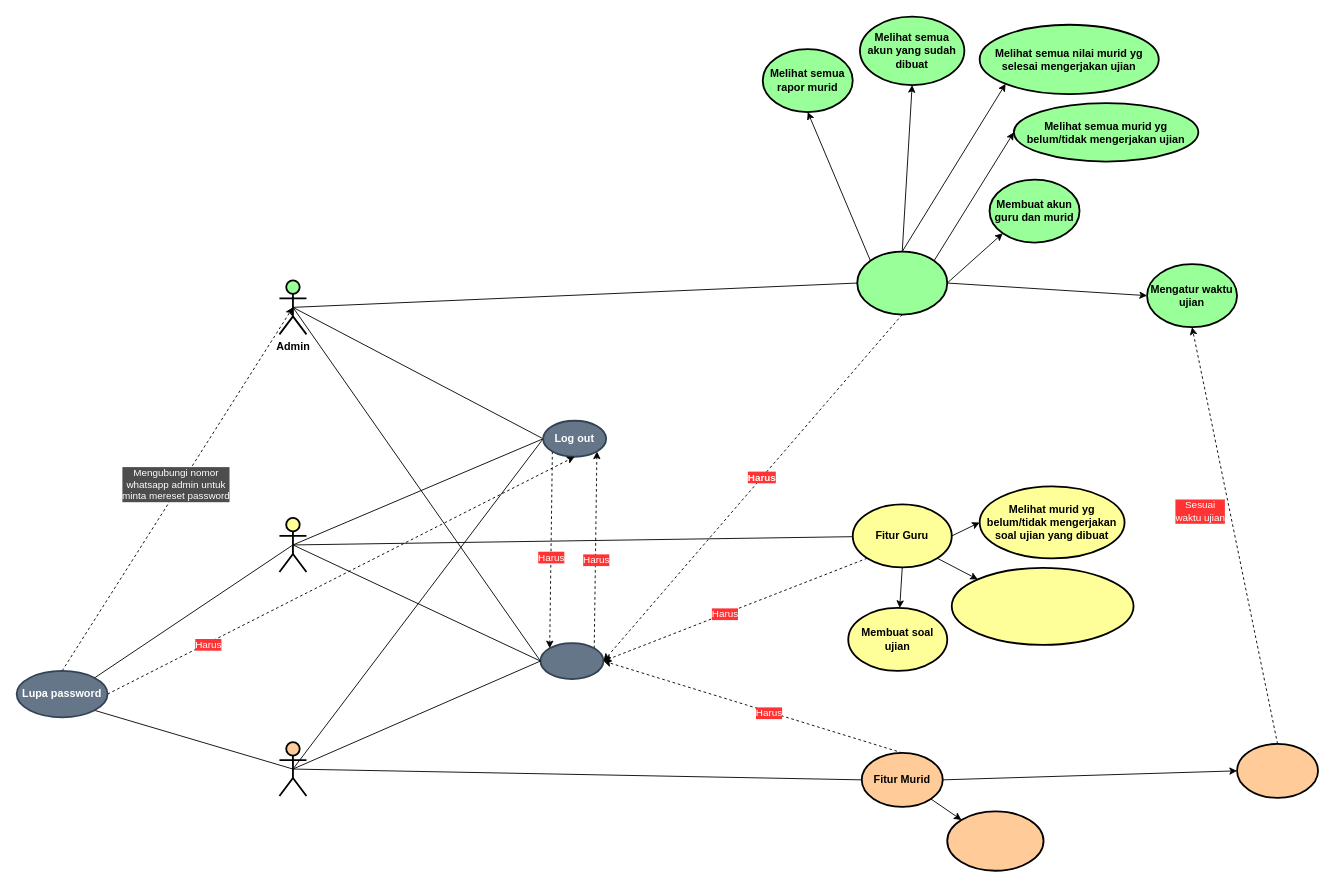
The diagram is 1334 pixels wide and 887 high, and some of its shapes have lost their labels. Each missing label, with the centre of its shape:
"Fitur Admin" goes at point 902,282.
"Guru" goes at point 292,544.
"Log in" goes at point 571,661.
"Melihat nilai murid yg selesai mengerjakan soal ujian yang dibuat" goes at point 1042,606.
"Melihat rapor dirinya sendiri" goes at point 995,840.
"Mengerjakan ujian" goes at point 1277,770.
"Murid" goes at point 292,768.
